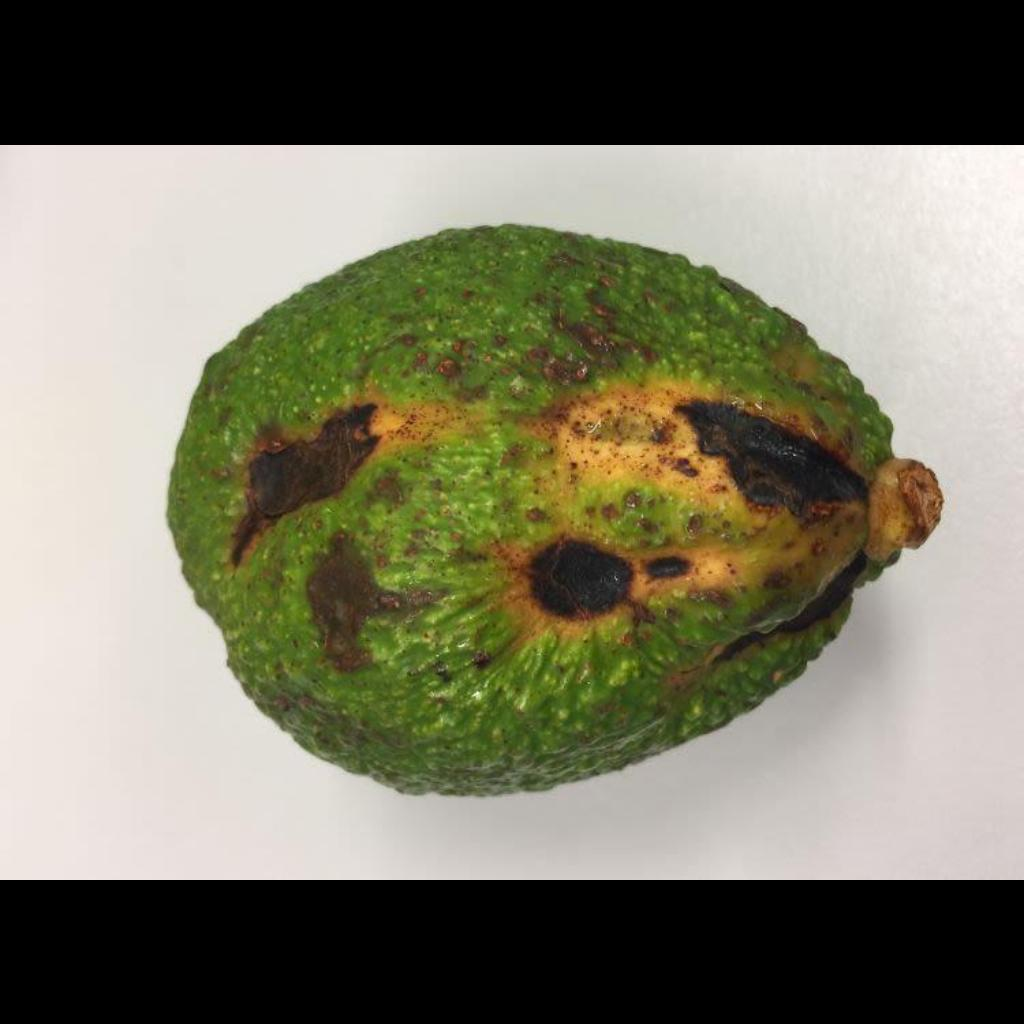sunblotch: (99, 208, 995, 812)
